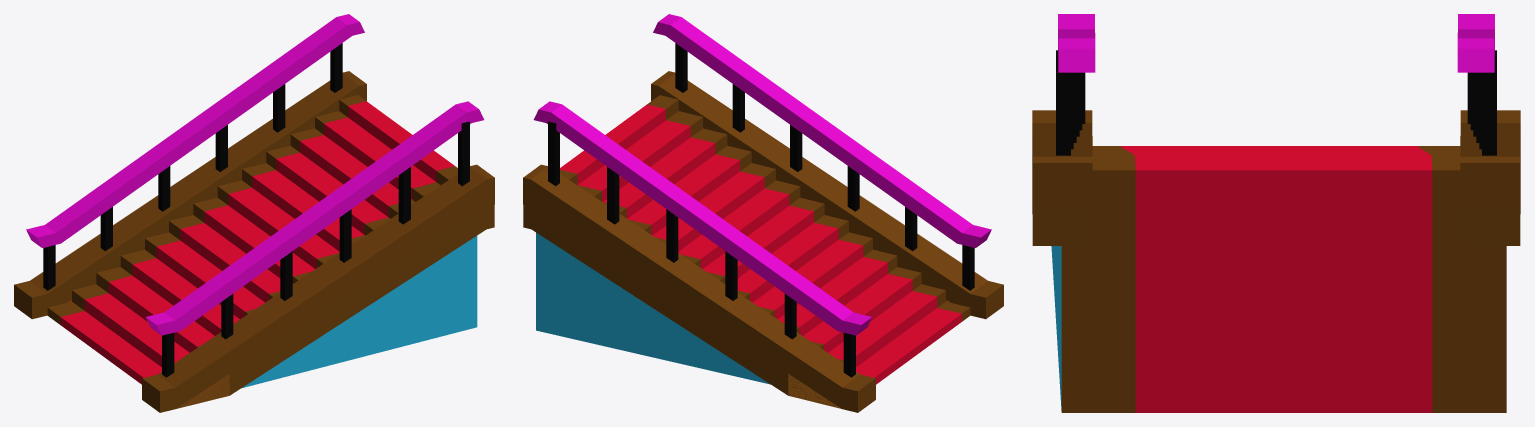
File: Staircase.fbx
3 renders of one model, left to right at view 1: azimuth 30°, elevation 25°; view 2: azimuth 150°, elevation 25°; view 3: azimuth 270°, elevation 25°, orthographic. The views are drawn at different scales.
Parts seen in each view (by area): view 1: StaircaseBase, StaircaseSupport, StaircaseHandle, StaircaseColumn; view 2: StaircaseBase, StaircaseSupport, StaircaseHandle, StaircaseColumn; view 3: StaircaseBase, StaircaseSupport, StaircaseColumn, StaircaseHandle.
Boxes of the visible parts, <box> form: StaircaseBase: <box>47,95,477,387</box>; StaircaseSupport: <box>14,71,494,412</box>; StaircaseHandle: <box>26,14,484,335</box>; StaircaseColumn: <box>43,43,469,377</box>; StaircaseBase: <box>536,95,970,384</box>; StaircaseSupport: <box>523,71,1003,412</box>; StaircaseHandle: <box>533,14,991,335</box>; StaircaseColumn: <box>548,43,974,377</box>; StaircaseBase: <box>1051,146,1506,412</box>; StaircaseSupport: <box>1032,110,1520,245</box>; StaircaseColumn: <box>1056,50,1496,155</box>; StaircaseHandle: <box>1058,14,1494,72</box>.
Bounding box in the file's own units: 2159 × 1345 × 1628.
